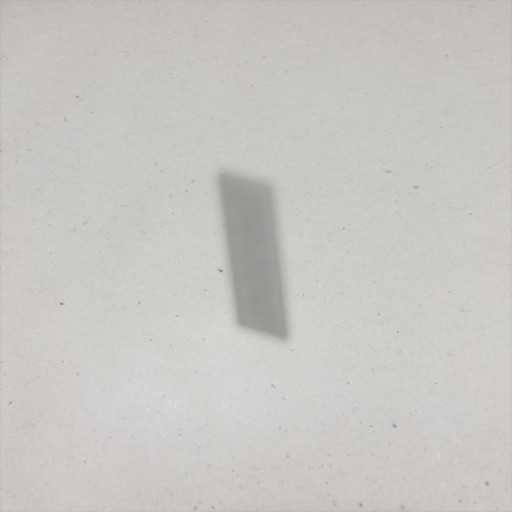lego: (213, 167, 293, 345)
